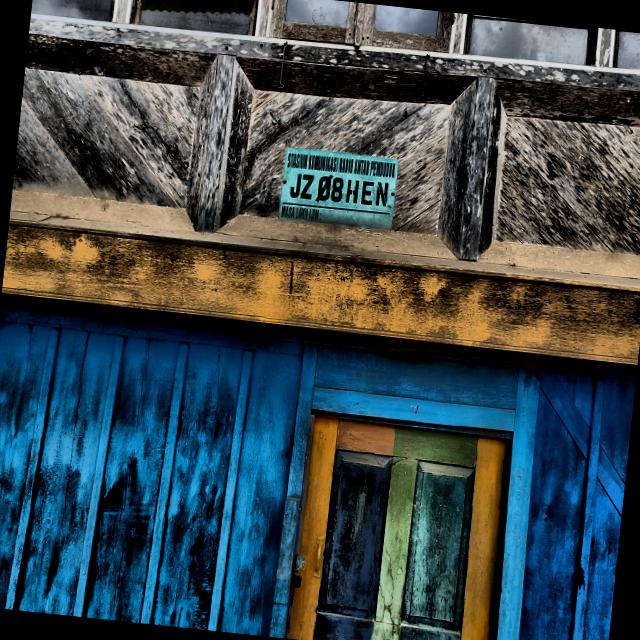door: (285, 406, 515, 640)
ornamen: (217, 55, 476, 259), (10, 33, 216, 232), (475, 76, 640, 278)
wall: (0, 293, 637, 640)
